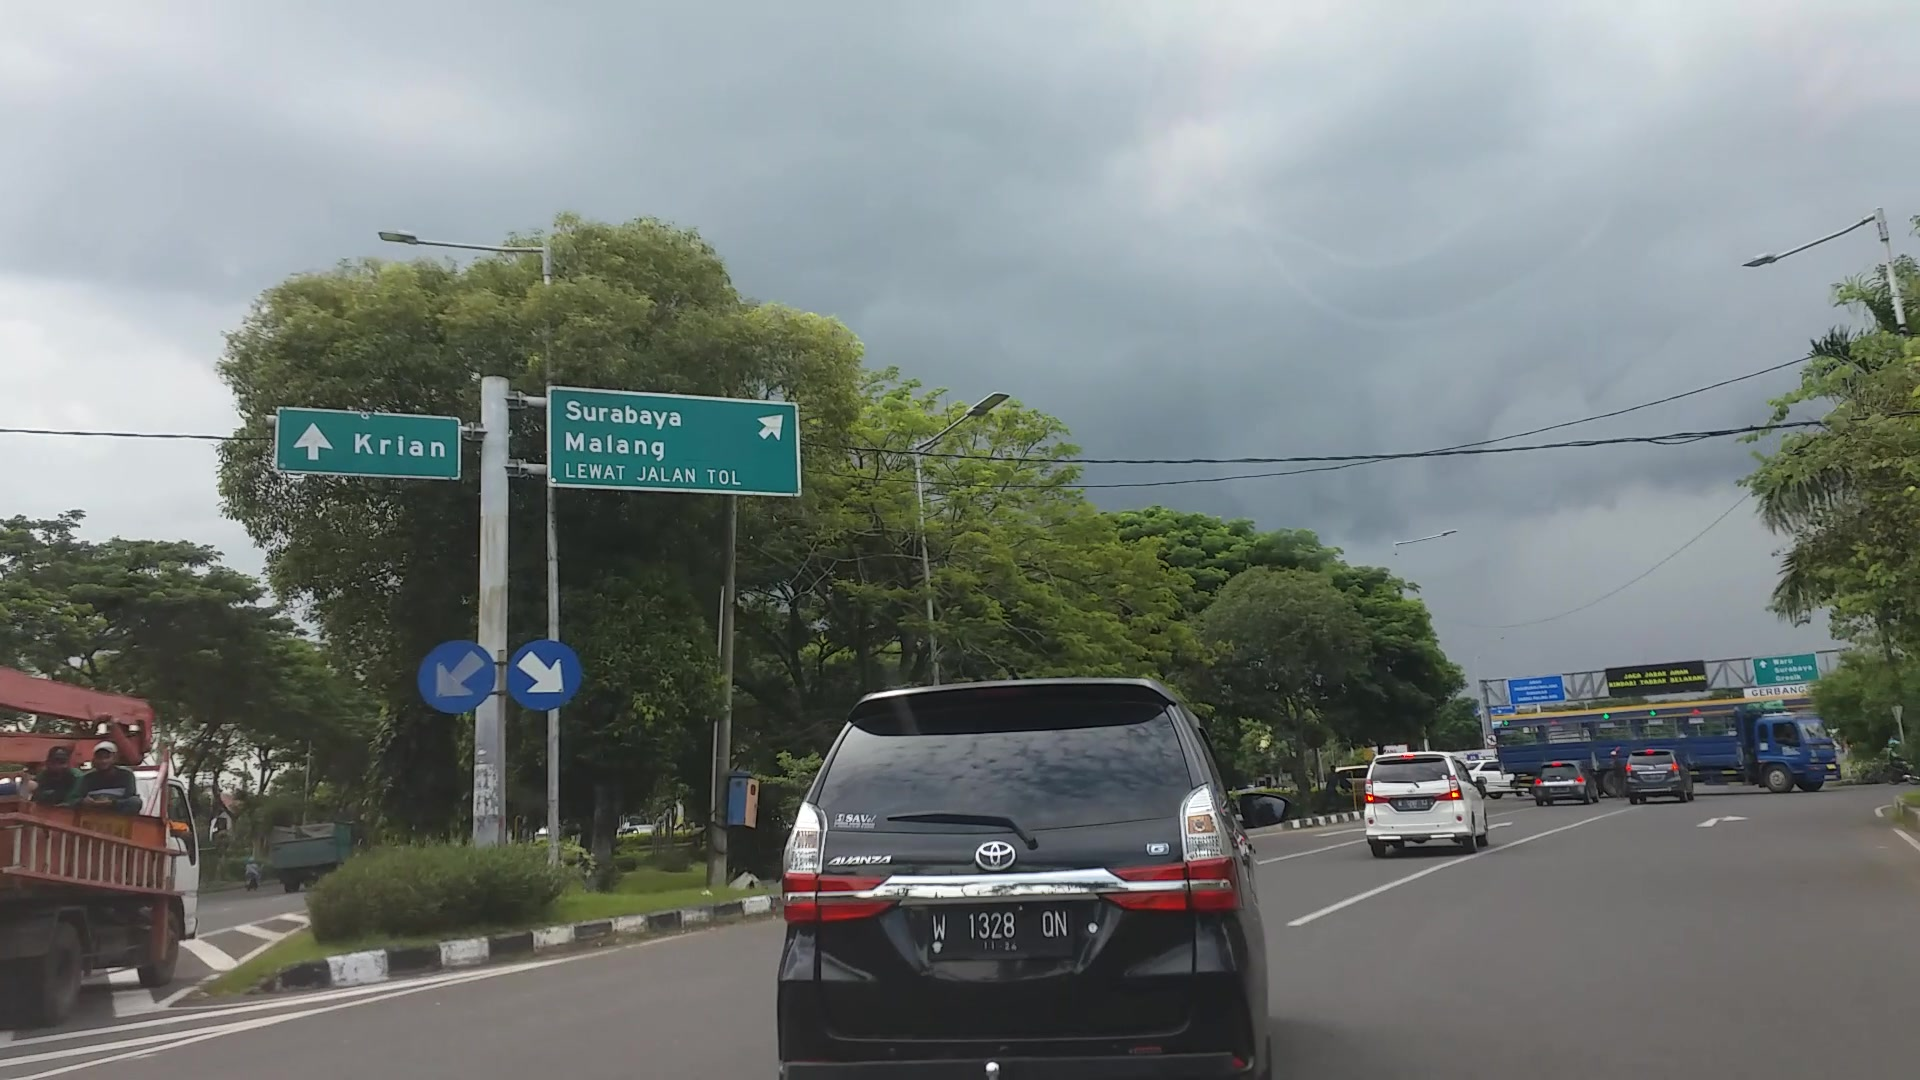plate_positive: (927, 905, 1071, 959)
